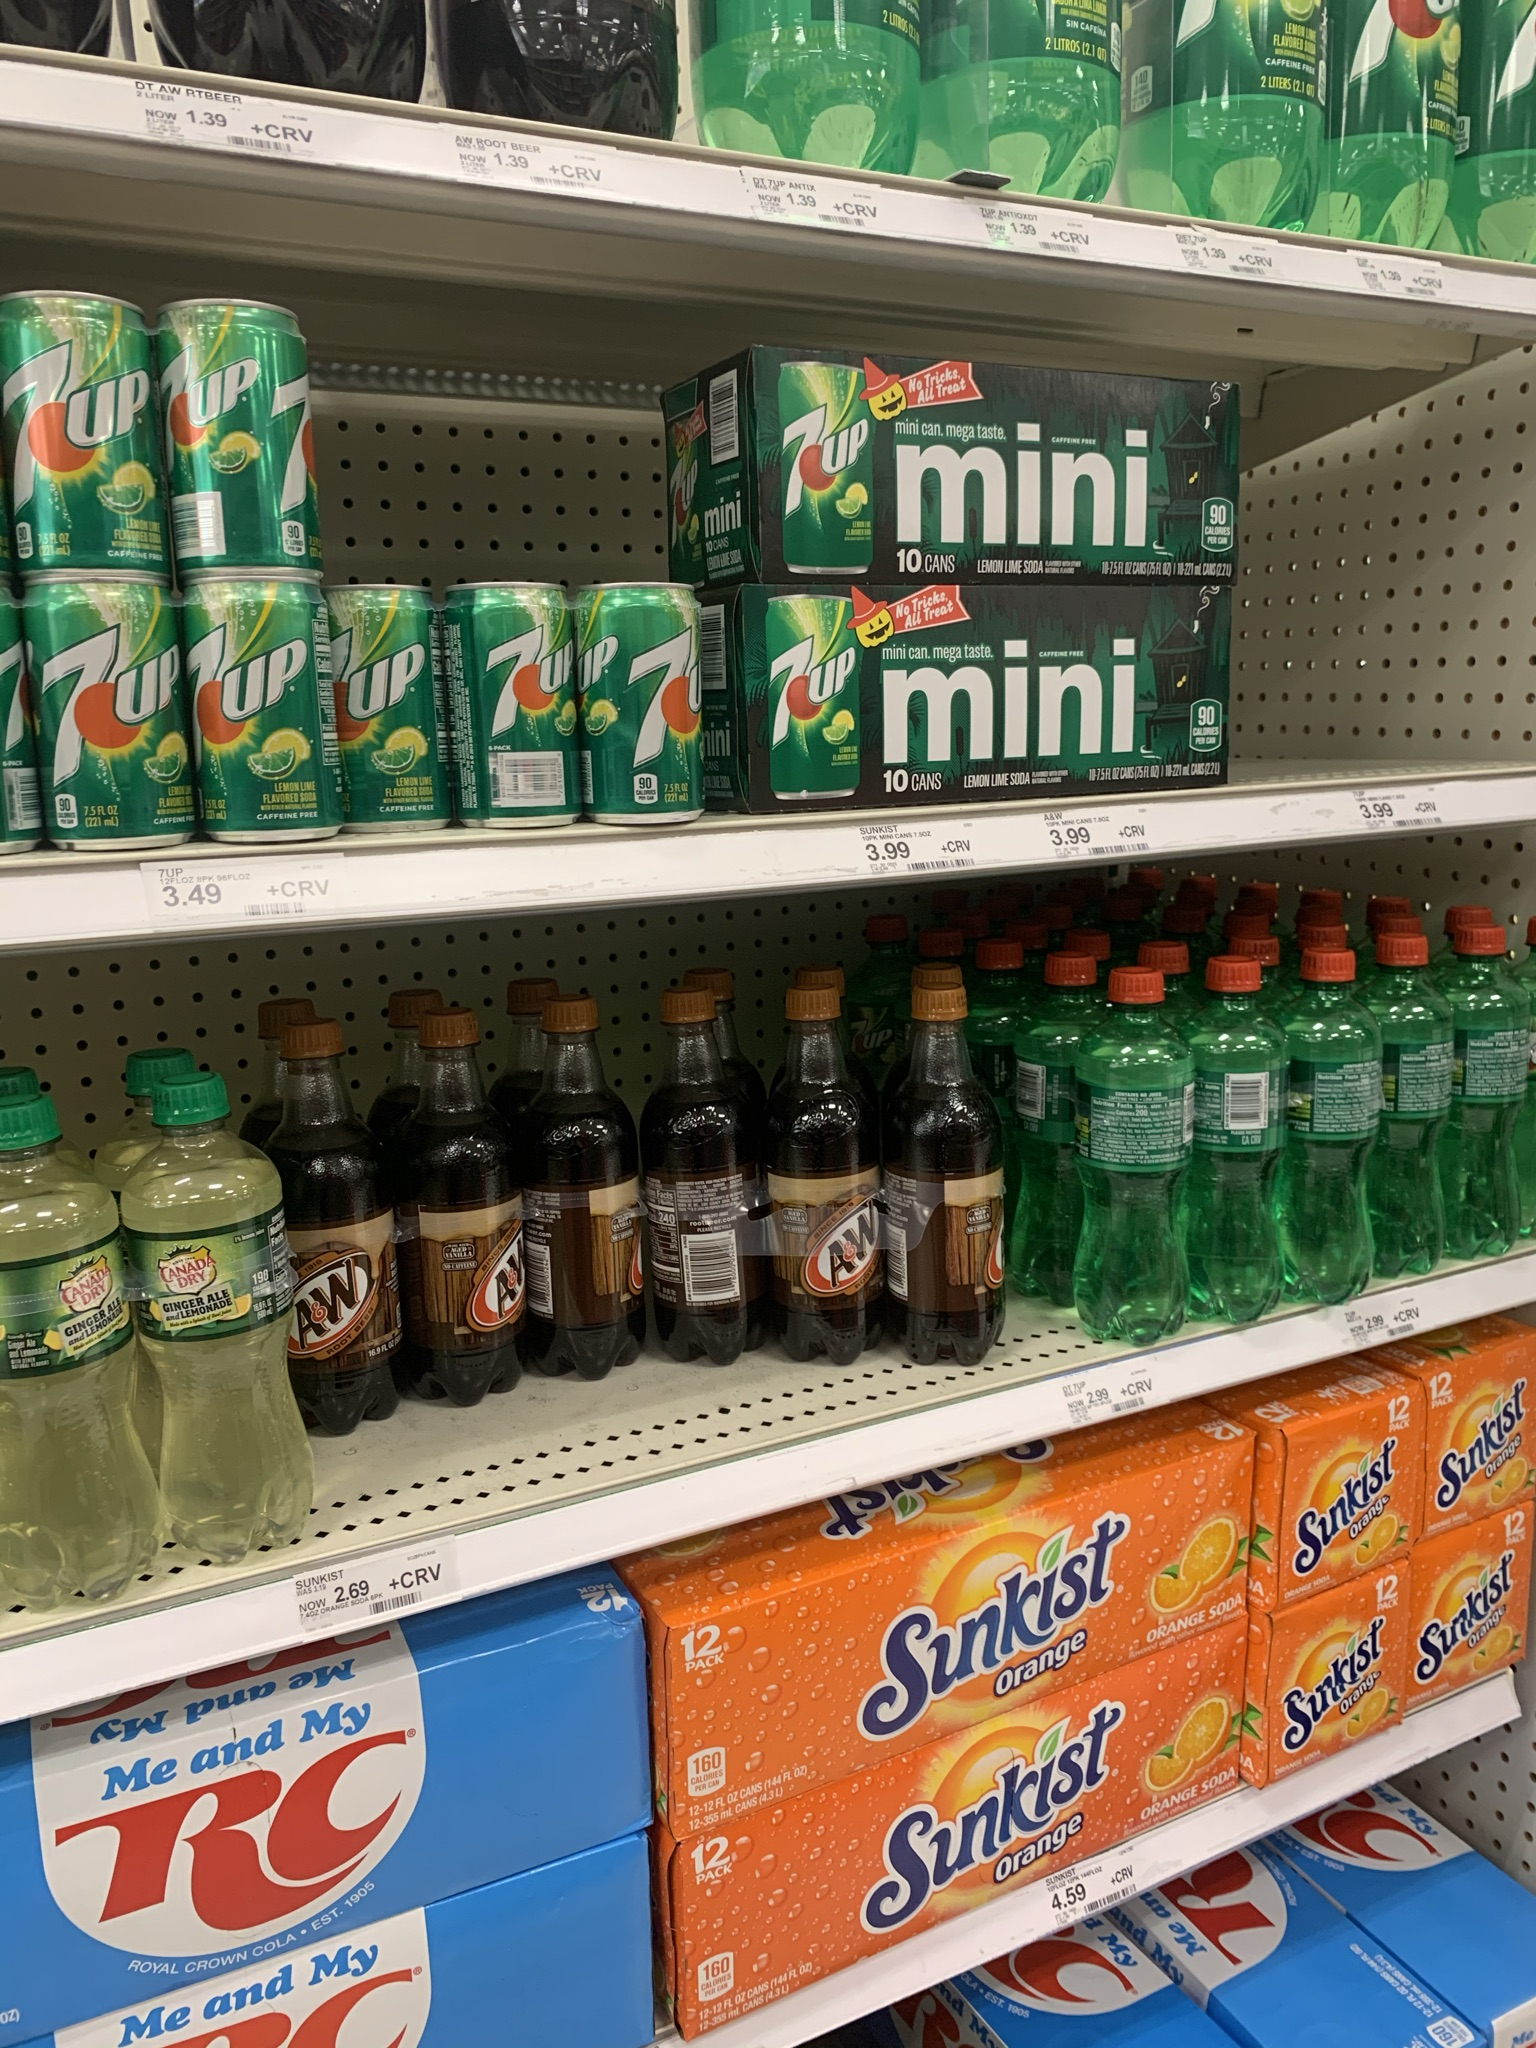7up soda: (15, 302, 339, 835), (753, 339, 1257, 555), (765, 581, 1267, 761), (352, 581, 712, 806)
canada dry soda: (6, 1061, 328, 1564)
sprite soda: (261, 1016, 1039, 1355), (1047, 901, 1533, 1276)
sunkist soda: (670, 1564, 1283, 1830), (1283, 1430, 1409, 1546), (1418, 1571, 1536, 1680), (1425, 1371, 1533, 1484), (1284, 1606, 1402, 1709)
